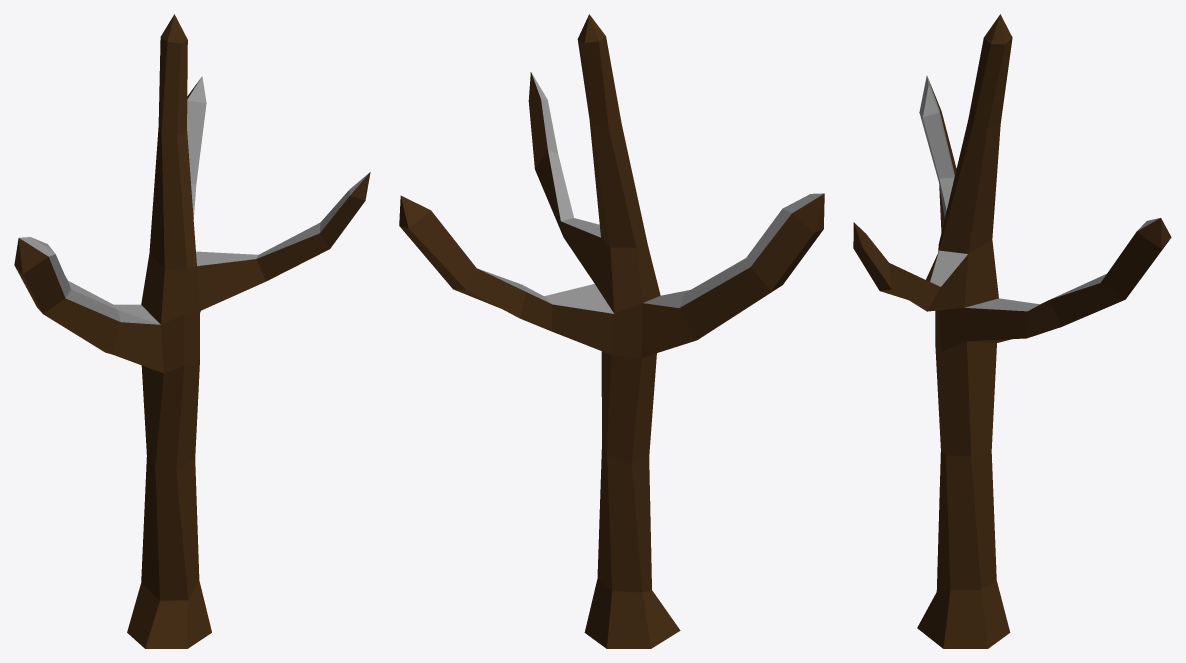
Rendered from Dead_Tree02.fbx.
The picture shows the model from 3 angles, left to right: view 1: azimuth 30°, elevation 25°; view 2: azimuth 150°, elevation 25°; view 3: azimuth 270°, elevation 25°; orthographic projection. The views are drawn at different scales.
Parts seen in each view (by area): view 1: Dead_Tree02; view 2: Dead_Tree02; view 3: Dead_Tree02.
Part boxes in pixels (x1,y1,x2,y2): Dead_Tree02: [14, 14, 370, 648]; Dead_Tree02: [399, 14, 824, 648]; Dead_Tree02: [853, 14, 1171, 648].
Bounding box in the file's own units: 248 × 449 × 206.
